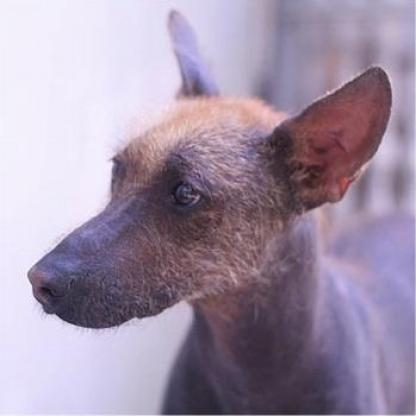Mexican_hairless: (25, 7, 414, 414)
